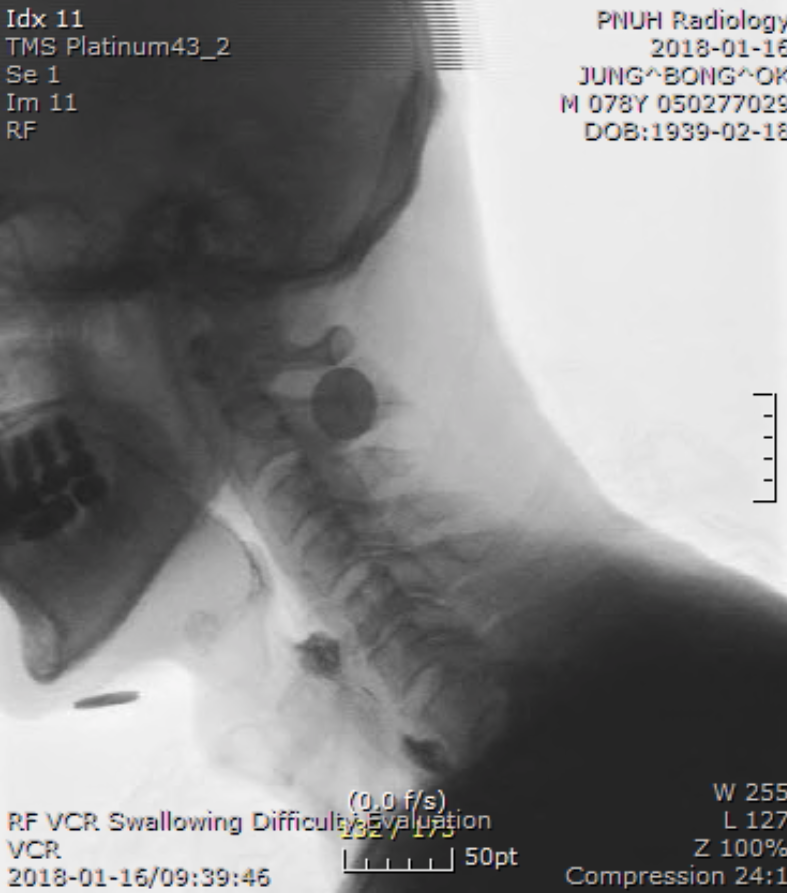dros: (276, 582, 343, 641)
food: (273, 626, 349, 691)
uros: (201, 531, 268, 602)
